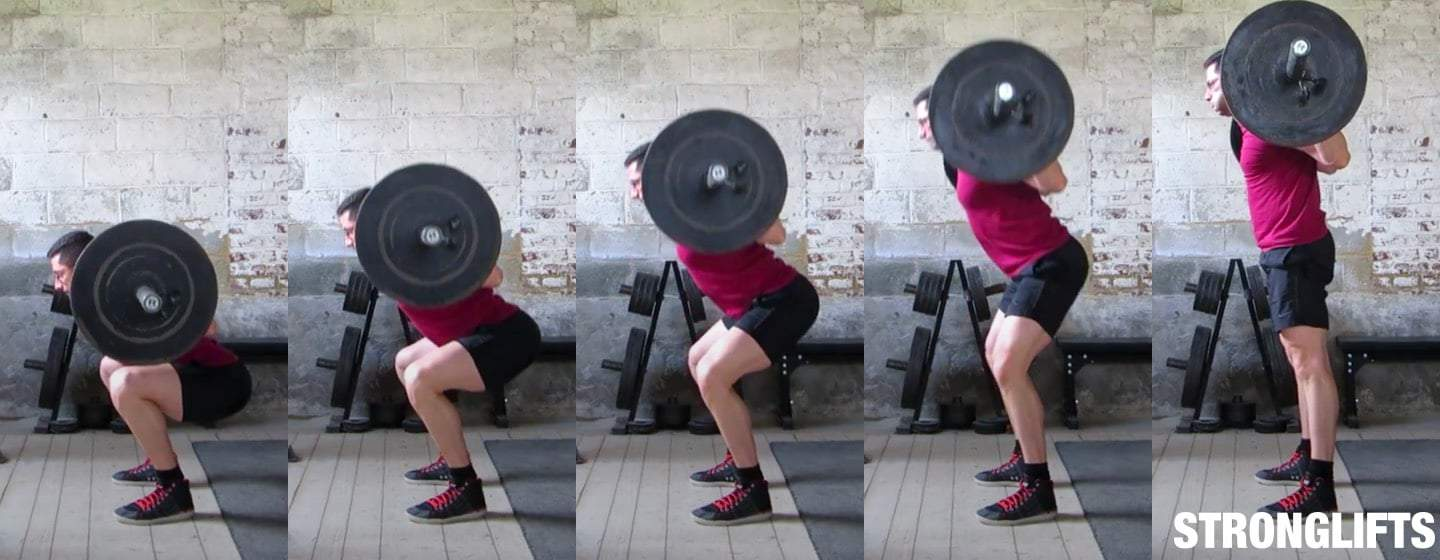barbell: (62, 217, 227, 370), (924, 40, 1090, 188), (351, 162, 513, 311), (631, 105, 795, 246), (1218, 1, 1368, 153)
